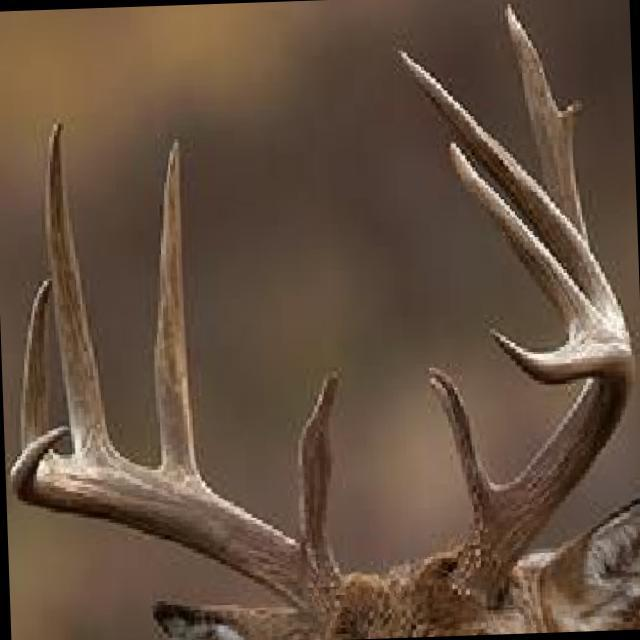L-F: (450, 327, 634, 610)
L-G1: (427, 363, 500, 521)
L-G4: (448, 139, 616, 344)
R-F: (8, 426, 353, 631)
R-G1: (295, 367, 342, 558)
R-G2: (154, 135, 206, 487)
R-G3: (44, 120, 124, 463)
